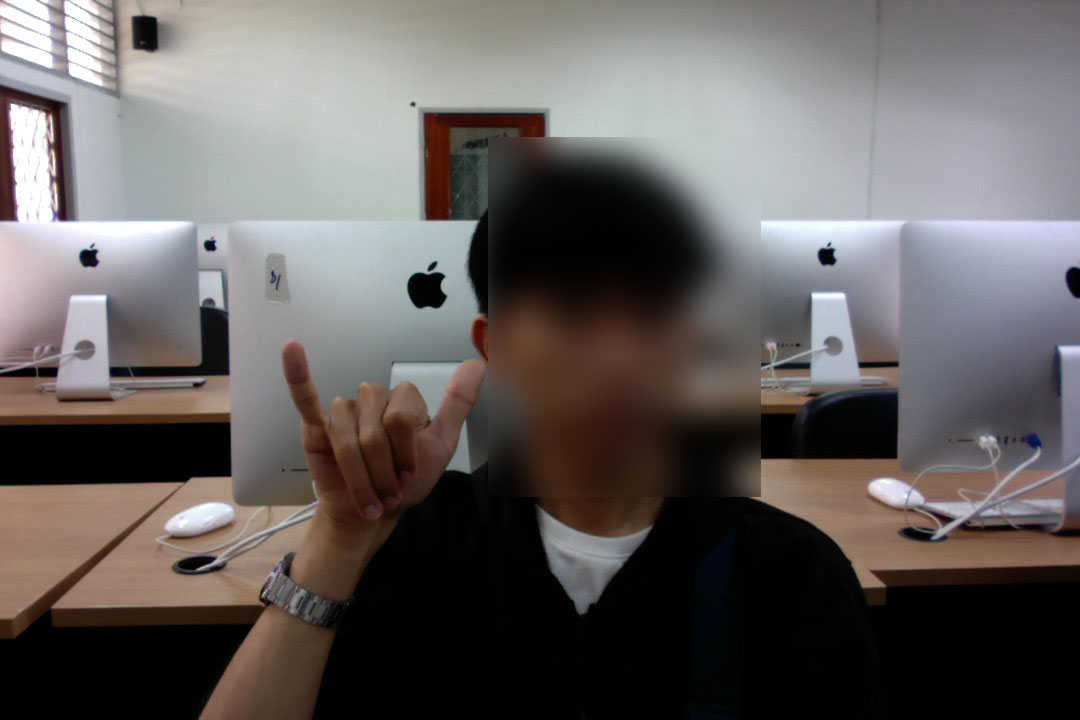yor: (271, 330, 493, 569)
